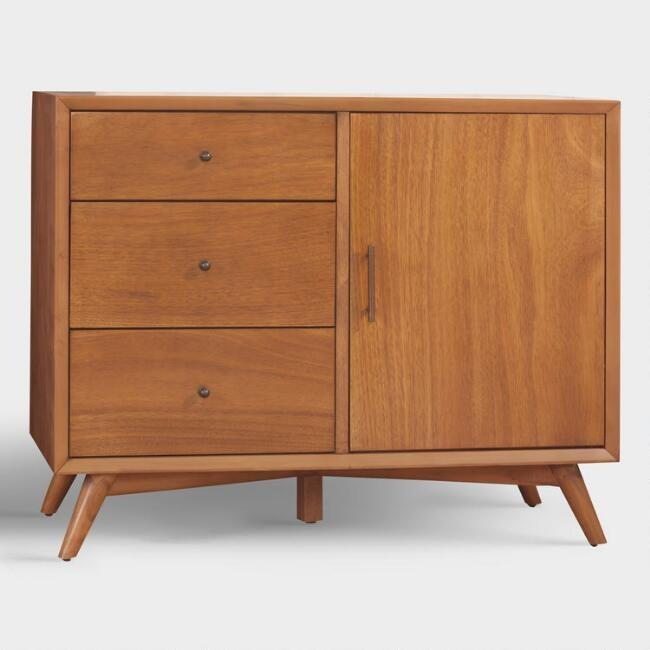cabinet_door: (348, 118, 604, 444), (67, 328, 333, 459), (67, 202, 332, 328), (67, 114, 332, 202)
handle: (361, 241, 381, 325), (196, 144, 217, 169), (195, 380, 214, 407), (197, 250, 215, 278)
